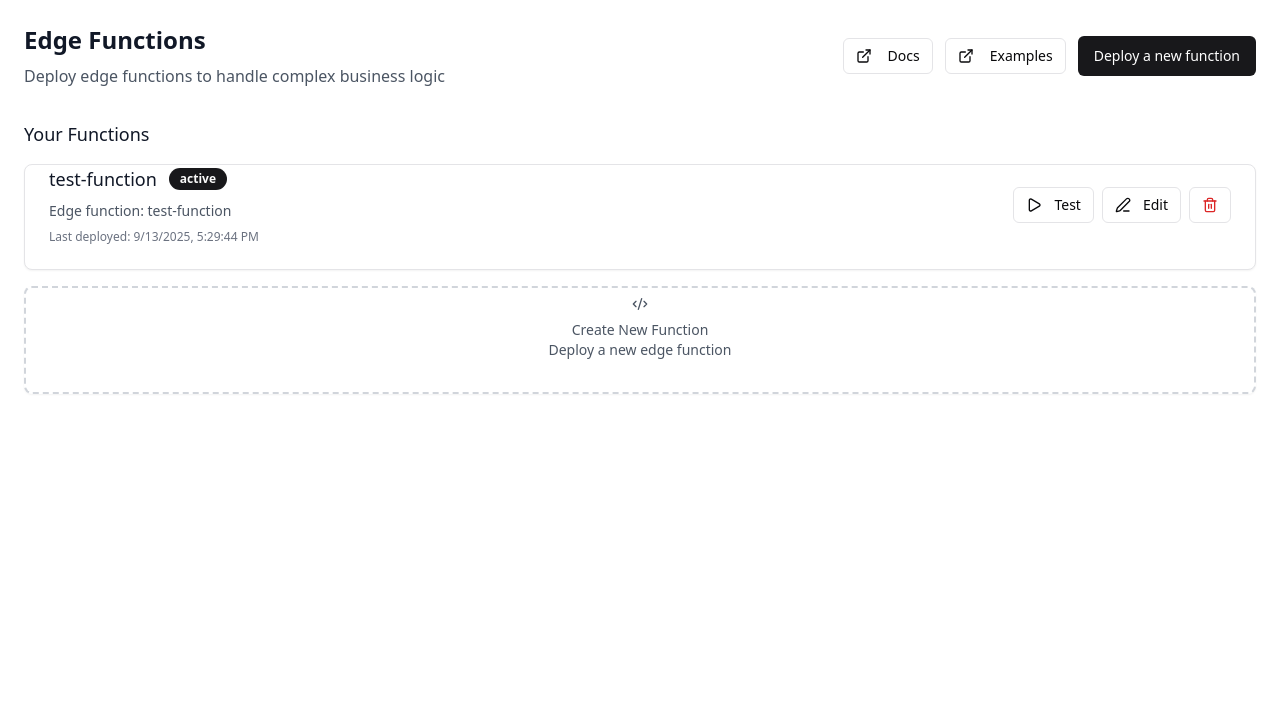
Test: FunctionsList › Function Testing › should handle test errors gracefully
The image size is (1280, 720).
Expected: the heading "test-function" is shown, [49, 165, 157, 193]
Click the button "Test" at point(1054, 205), box [1014, 187, 1094, 223]
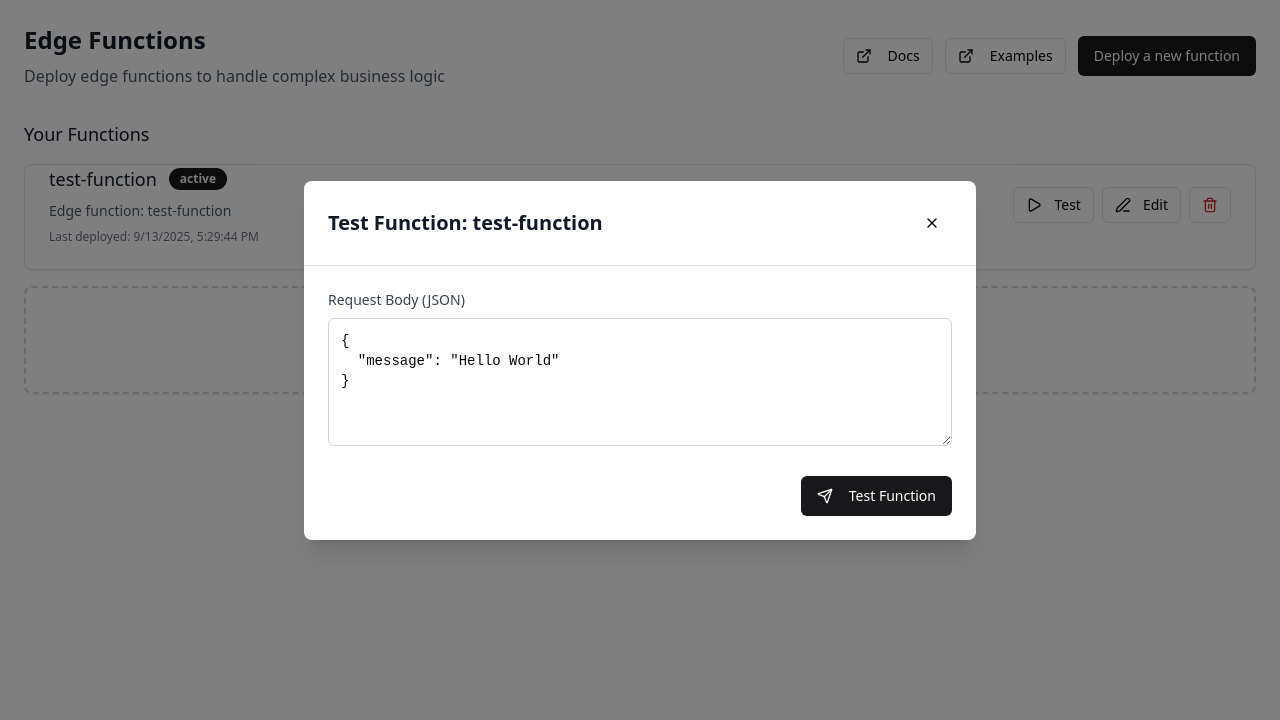
Click the button "Test Function" at point(876, 496), box [801, 476, 952, 516]
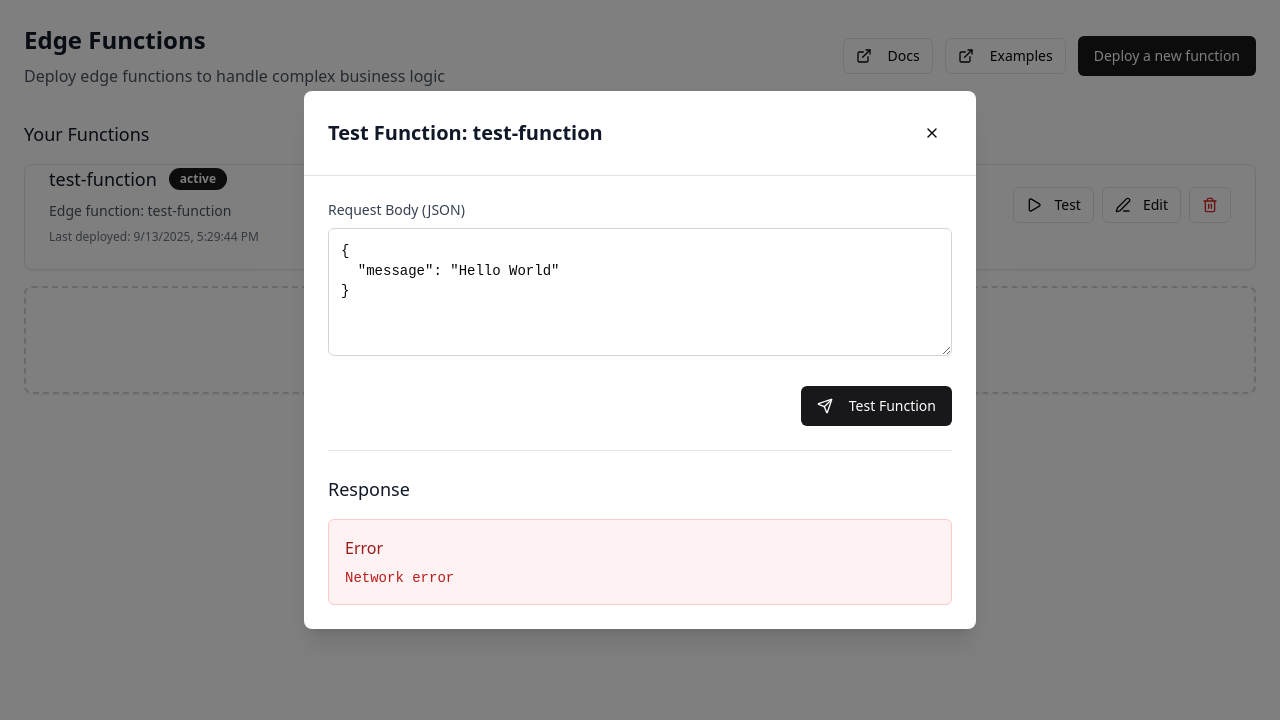
Result: the text "Error" is shown at [345, 537, 383, 559]
